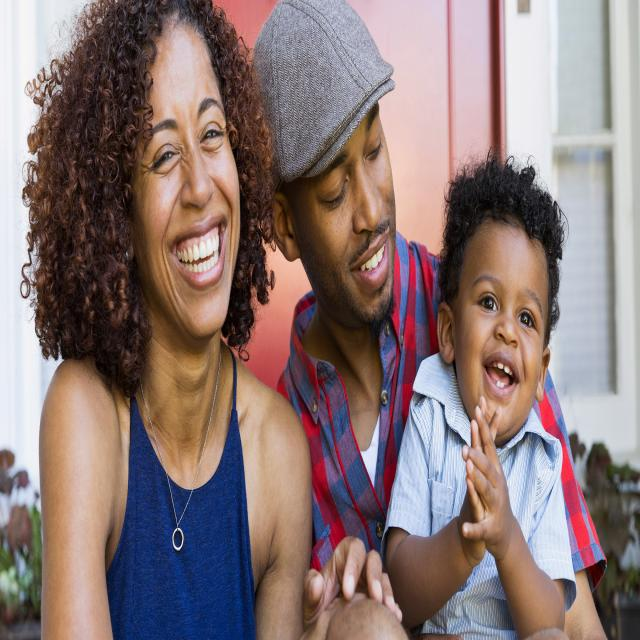adult: (249, 1, 609, 640), (24, 0, 313, 640)
child: (384, 153, 570, 640)
